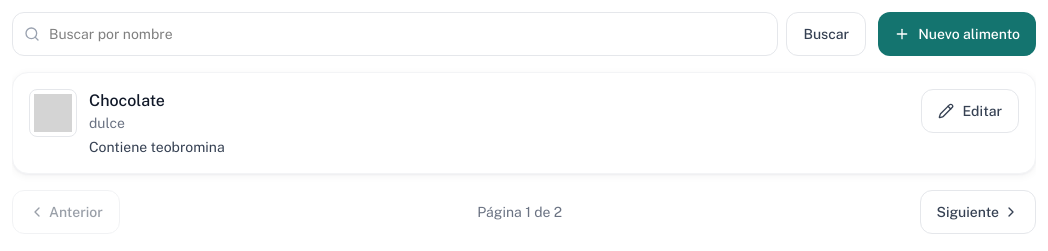
FoodsTab › searches by name starting again from the first page
Expected: the text "Chocolate" is shown, [89,91,165,110]
Click the button "Siguiente" at [978, 212], box [920,190,1036,234]
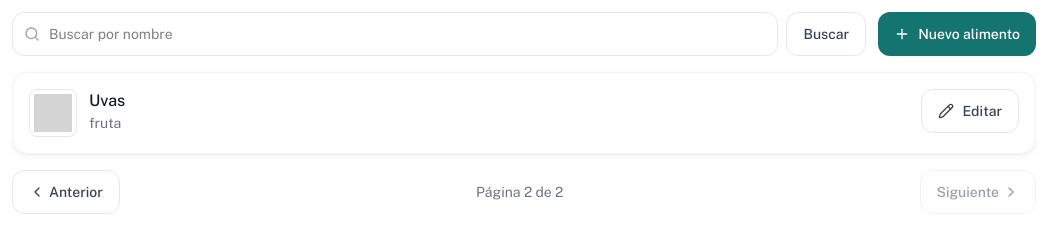
Now the text "Uvas" is shown, box [89,89,125,113]
Type "  cho " into the search field named "Buscar alimento en el catálogo" at [395, 34], box [12,12,778,56]
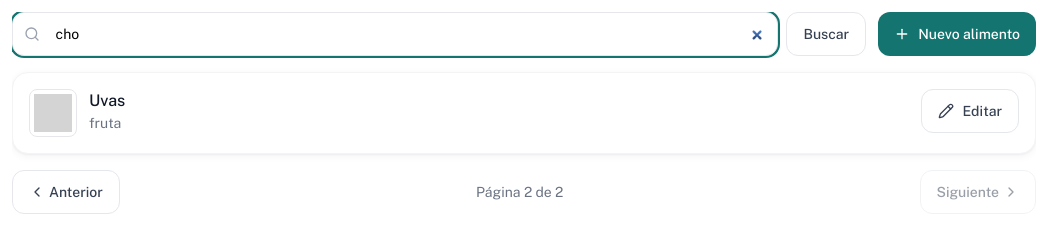
Click the button "Buscar" at [826, 34], box [786,12,866,56]
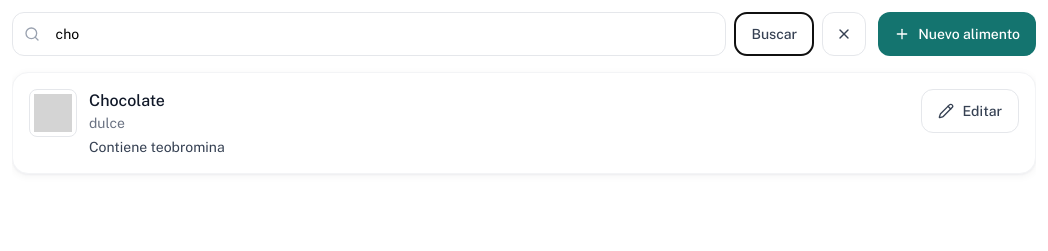
Now the text "Chocolate" is shown, box [89,91,165,110]
